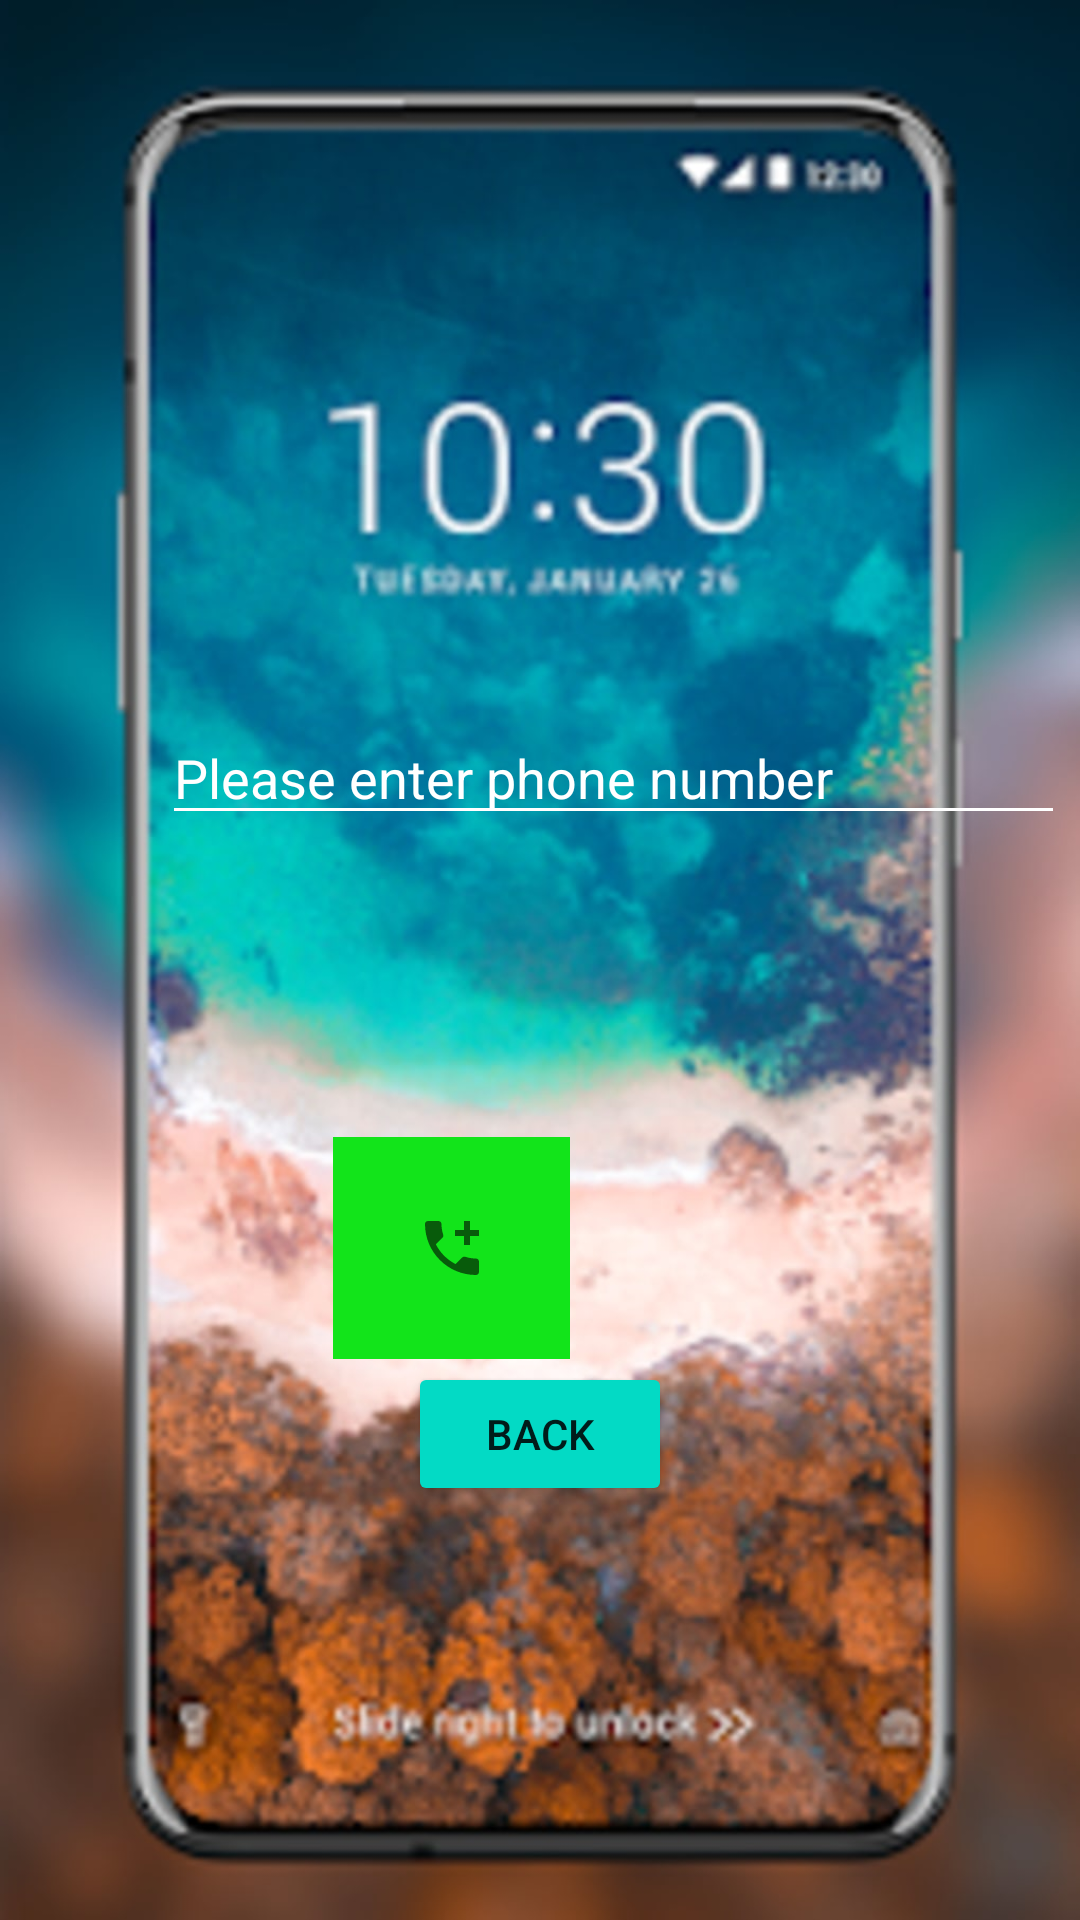

Named icons in this screenshot (1080*1920) and their centers, (x,y):
add call: (451,1248)
